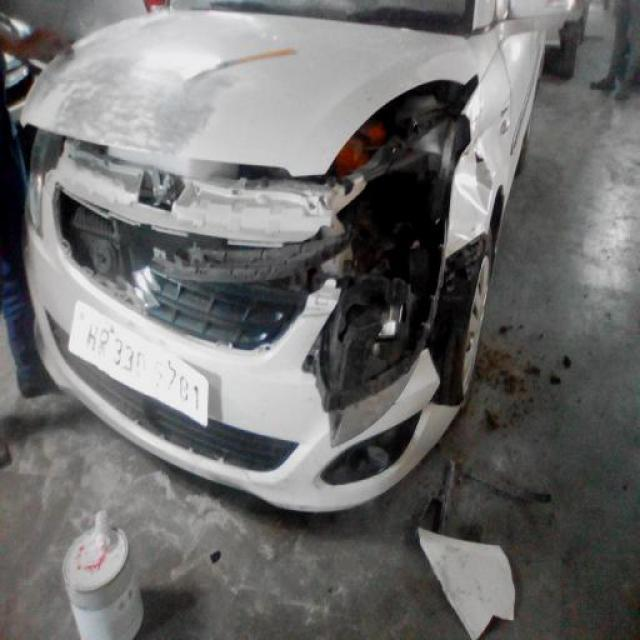Car-Damage: (44, 169, 340, 358), (302, 190, 455, 450), (52, 51, 236, 153), (448, 108, 496, 246)
